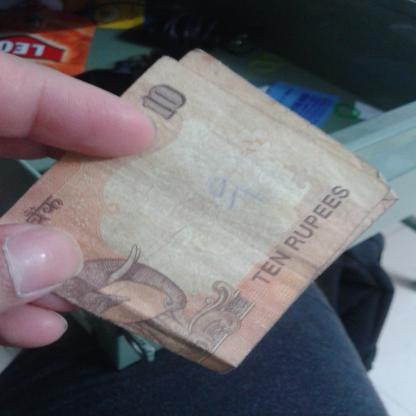Old10Back: (0, 44, 401, 378)
